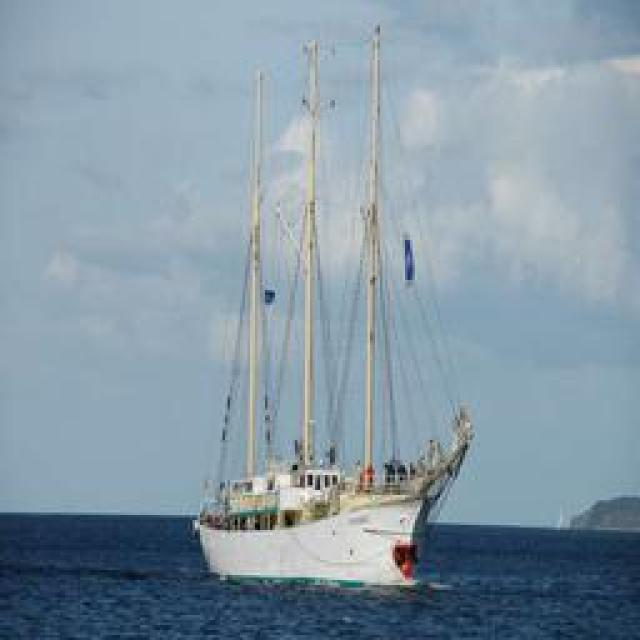CIV_Ship: (192, 24, 480, 602)
